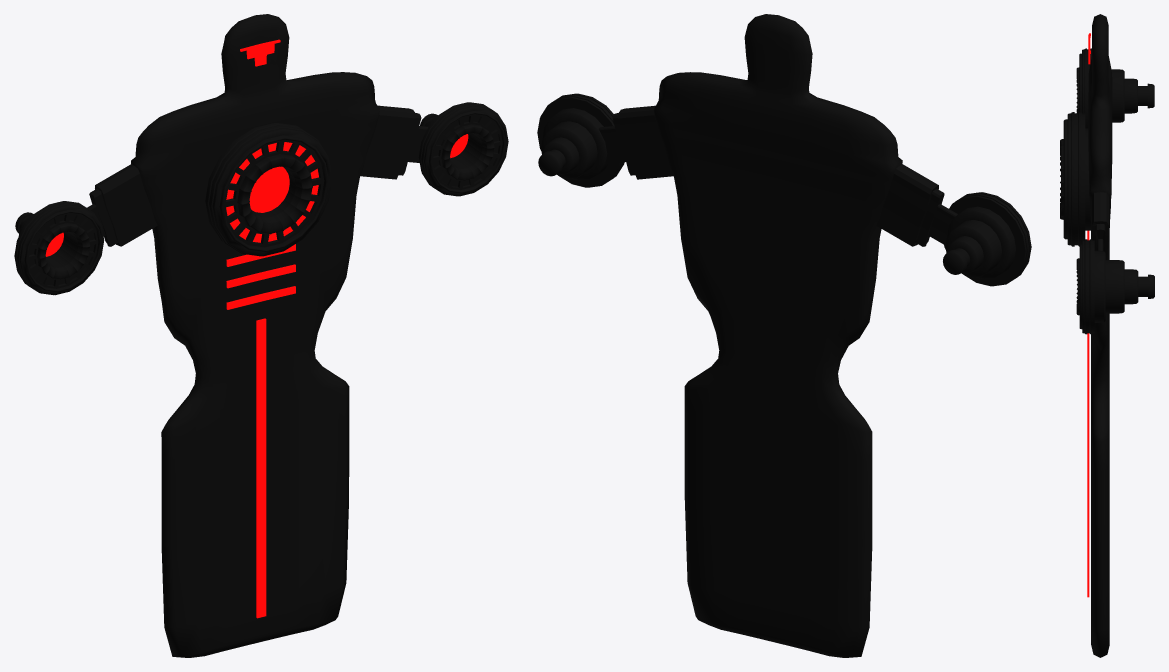
The model's file is ShootbackTarget_Canons1.FBX.
The picture shows the model from 3 angles, left to right: view 1: azimuth 30°, elevation 25°; view 2: azimuth 150°, elevation 25°; view 3: azimuth 270°, elevation 25°; orthographic projection. The views are drawn at different scales.
Parts seen in each view (by area): view 1: Box003, Cylinder193, Cylinder191, Cylinder192, GunLight002, CanonLEDS; view 2: Box003, Cylinder191, Cylinder192; view 3: Box003, Cylinder192, Cylinder193, Cylinder191.
Part boxes in pixels (x1=…): Box003: x1=87, y1=14, x2=428, y2=657; Cylinder193: x1=205, y1=123, x2=332, y2=256; Cylinder191: x1=14, y1=201, x2=104, y2=295; Cylinder192: x1=418, y1=102, x2=508, y2=196; GunLight002: x1=249, y1=166, x2=289, y2=212; CanonLEDS: x1=226, y1=142, x2=318, y2=242; Box003: x1=598, y1=14, x2=957, y2=657; Cylinder191: x1=943, y1=192, x2=1031, y2=286; Cylinder192: x1=537, y1=93, x2=624, y2=187; Box003: x1=1087, y1=14, x2=1112, y2=657; Cylinder192: x1=1076, y1=239, x2=1154, y2=334; Cylinder193: x1=1060, y1=112, x2=1090, y2=246; Cylinder191: x1=1076, y1=48, x2=1154, y2=128.
Bounding box in the file's own units: 154 × 188 × 26.75.
